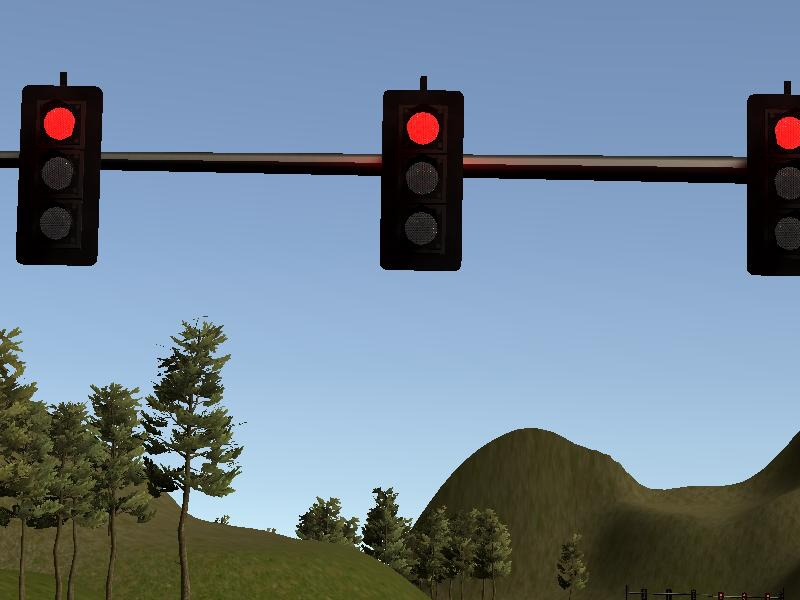Red: (15, 84, 102, 267), (377, 89, 464, 272), (744, 93, 800, 277)
